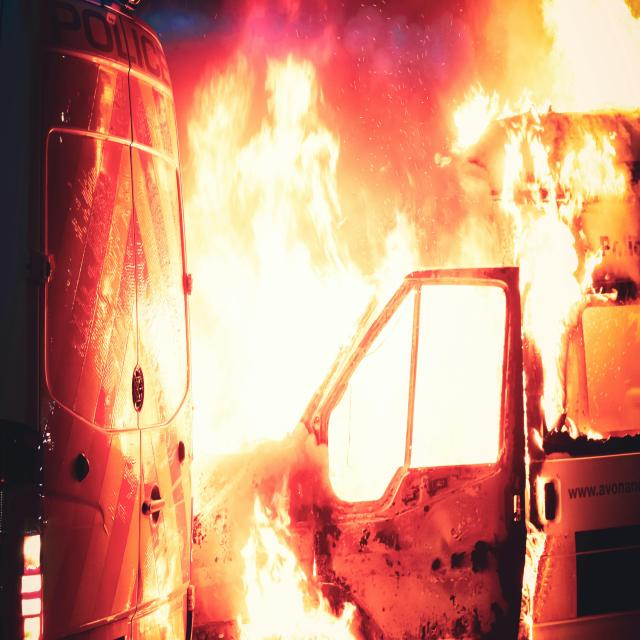fire: (190, 56, 621, 426), (232, 493, 354, 640)
